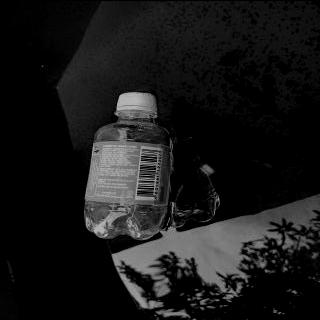bottle: (78, 88, 176, 240)
